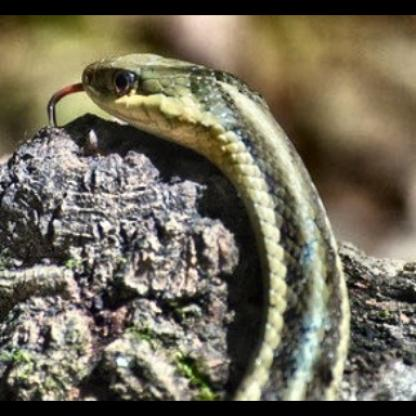Snake: (38, 47, 350, 396)
